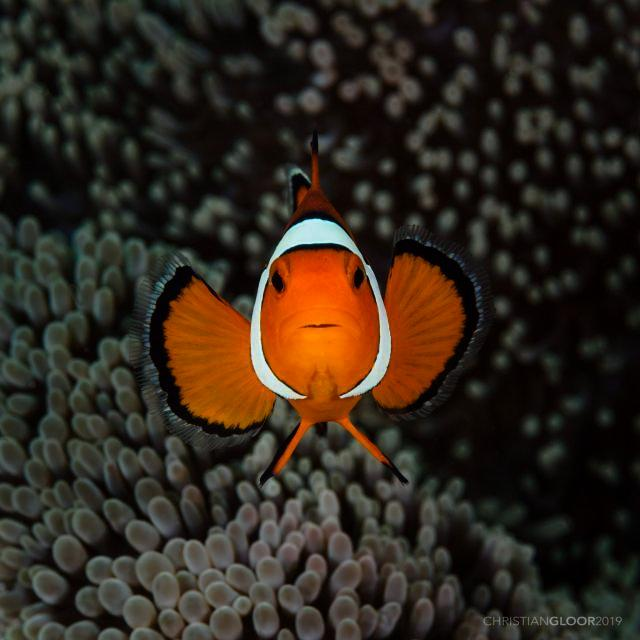ClownFish: (148, 132, 482, 484)
